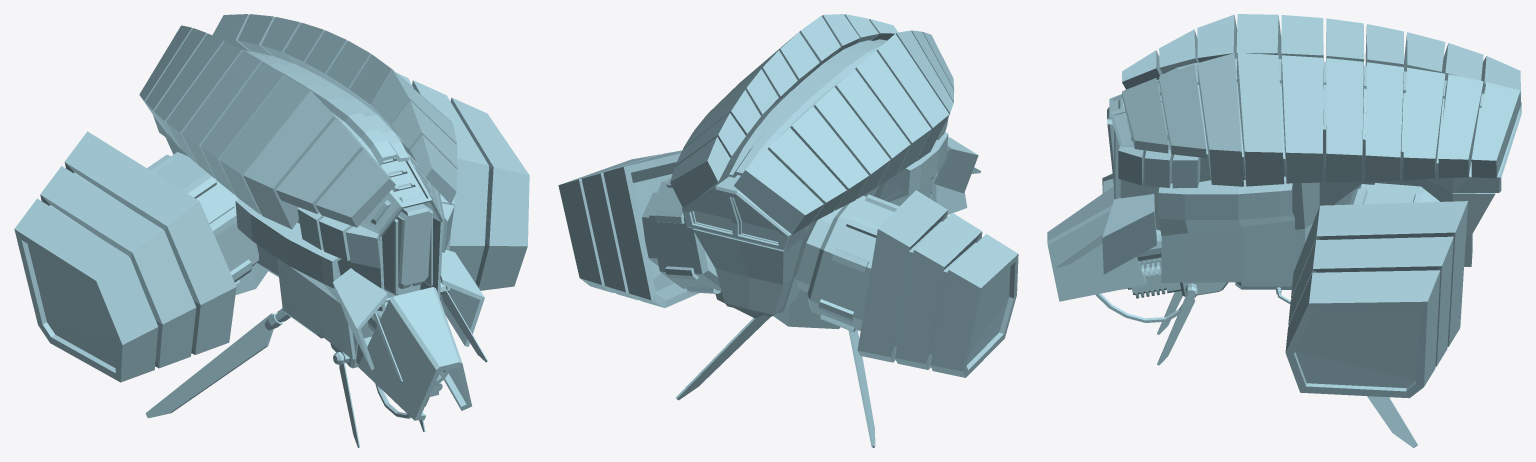
Rendered from Sm_drone.fbx.
The picture shows the model from 3 angles, left to right: view 1: azimuth 30°, elevation 25°; view 2: azimuth 150°, elevation 25°; view 3: azimuth 270°, elevation 25°; orthographic projection. The views are drawn at different scales.
Parts seen in each view (by area): view 1: drone_HP.021; view 2: drone_HP.021; view 3: drone_HP.021.
Boxes of the visible parts, bbox=[...] form: drone_HP.021: bbox=[14, 14, 529, 447]; drone_HP.021: bbox=[558, 14, 1018, 447]; drone_HP.021: bbox=[1047, 14, 1521, 447].
Bounding box in the file's own units: 195 × 150 × 177.
